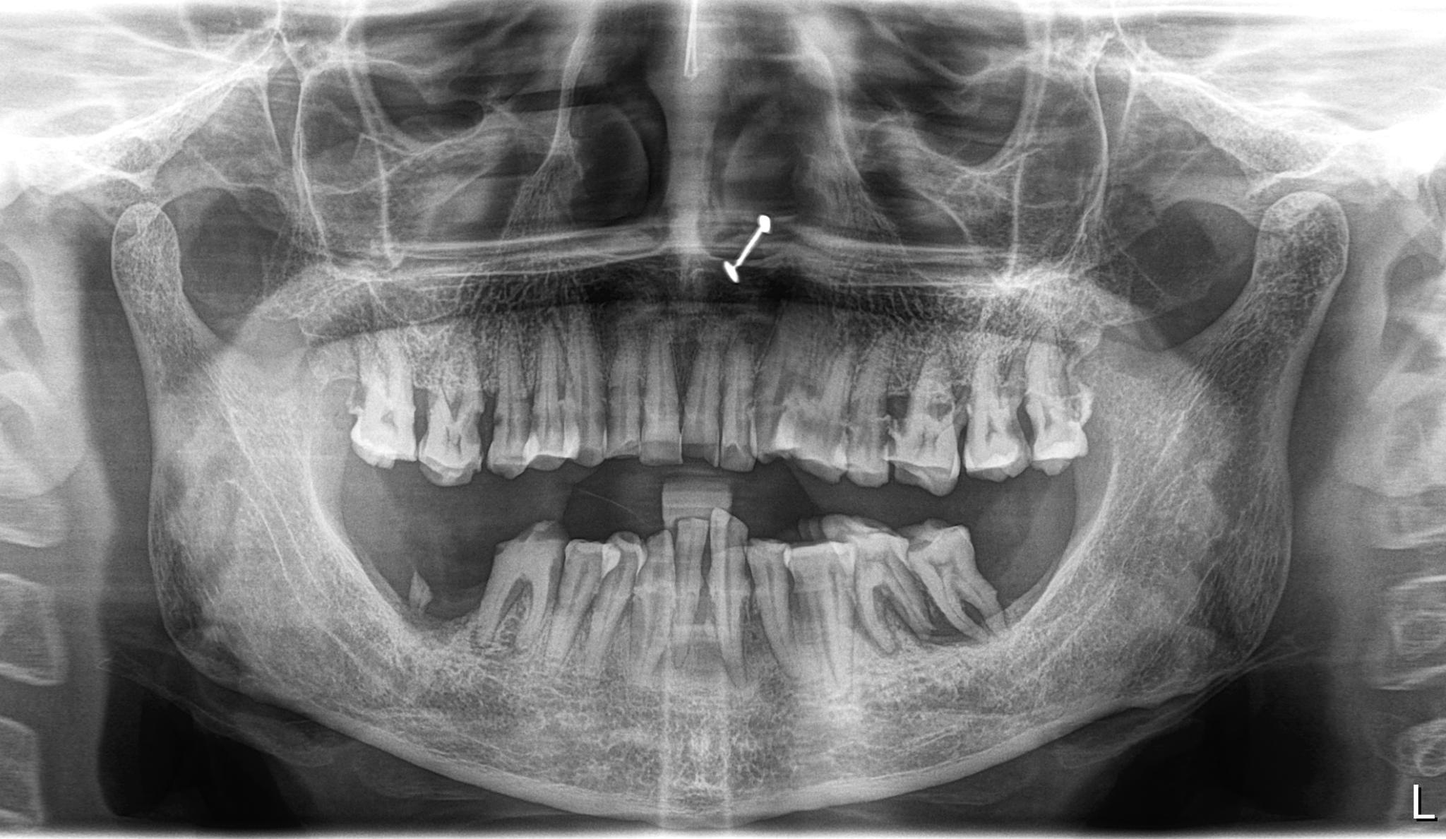Dental Caries: (505, 574, 551, 636), (868, 579, 919, 634), (921, 556, 974, 592), (470, 388, 505, 437), (406, 387, 448, 425), (927, 390, 971, 422), (876, 387, 910, 428)
Missing Tooth: (330, 496, 402, 623), (1041, 517, 1089, 631), (990, 523, 1039, 623)
Retained Root: (406, 546, 448, 631)
